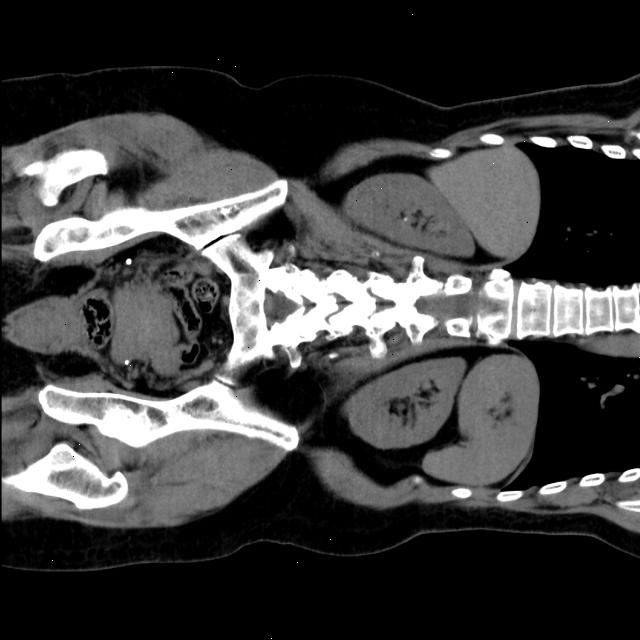kidneystone: (398, 213, 406, 222)
